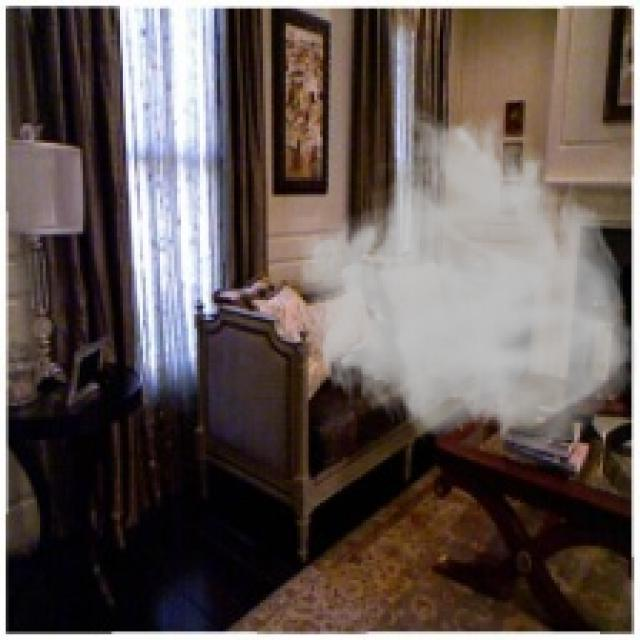Smoke: (294, 100, 637, 457)
